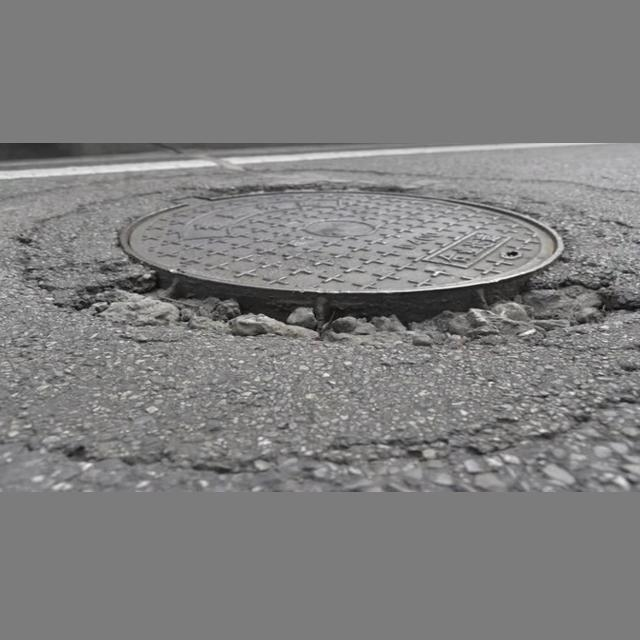circle: (17, 169, 640, 381)
